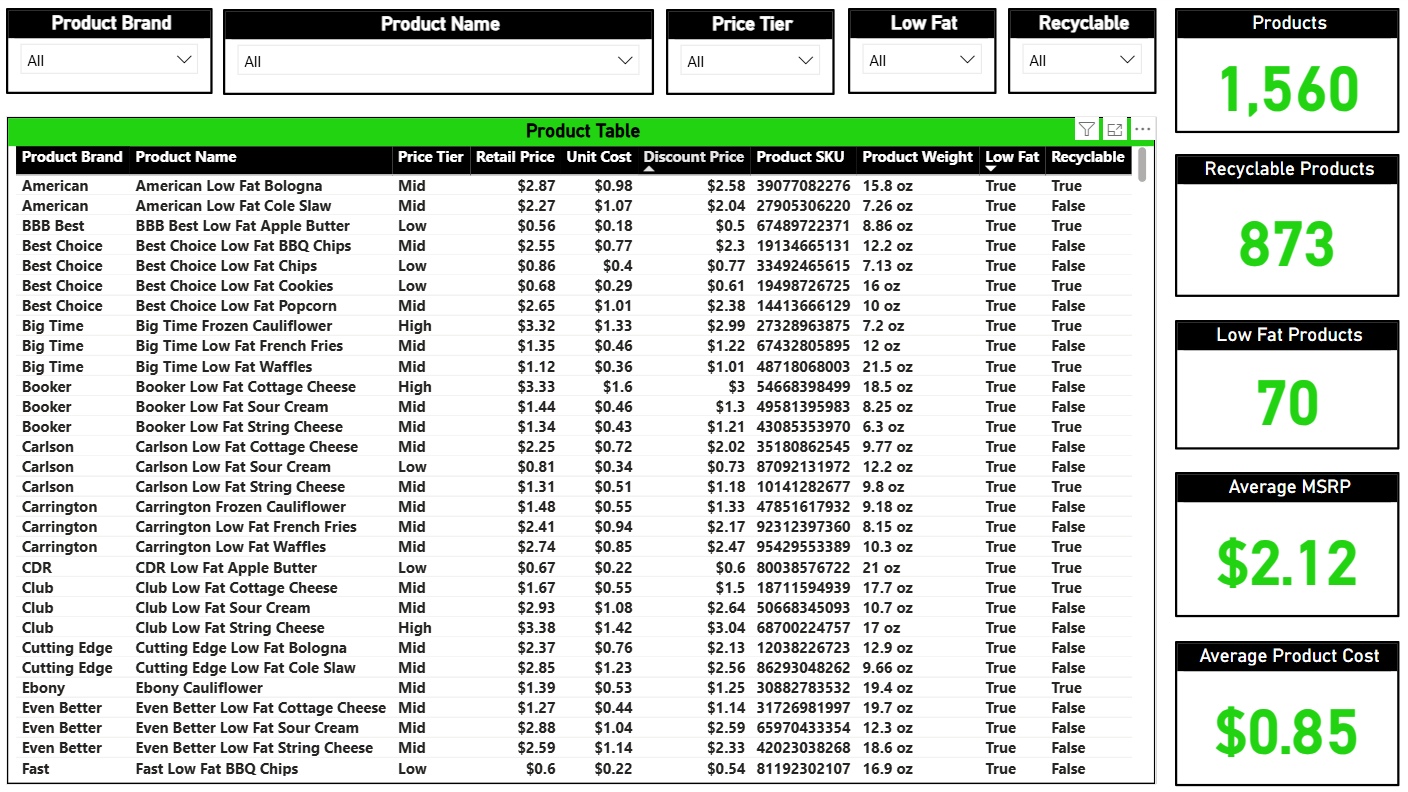

The page's visual inventory and layout, read from the dashboard file:
{"tool":"powerbi","page":{"name":"Product Lookup","canvas":[1280,720],"ordinal":1},"visuals":[{"type":"card","title":"Products","fields":{"Values":["Measures Table.Product Count"]},"box":[1056.7,11.3,201.1,112.4],"z":0,"group":"g1"},{"type":"tableEx","title":"Product Table","fields":{"Values":["Products.product_brand","Products.product_name","Products.Price_Tier","Sum(Products.product_retail_price)","Sum(Products.product_cost)","Sum(Products.discount_price)","Products.product_sku","Sum(Products.product_weight)","Sum(Products.low_fat)","Sum(Products.recyclable)"]},"box":[10.3,108.7,1029.7,599],"z":0},{"type":"slicer","title":"Product Brand","fields":{"Values":["Products.Product Brand"]},"box":[10.3,11.3,185.3,76.9],"z":1000,"group":"g2"},{"type":"card","title":"Low Fat Products","fields":{"Values":["Measures Table.Low Fat Product Count"]},"box":[1056.7,290.7,201.1,115.5],"z":1000,"group":"g1"},{"type":"group","id":"g1","title":"Product Cards","box":[1056.7,11.3,200.7,695.8],"z":2000},{"type":"card","title":"Recyclable Products","fields":{"Values":["Measures Table.Recyclable Products"]},"box":[1056.7,142.4,201.1,128],"z":2000,"group":"g1"},{"type":"slicer","title":"Price Tier","fields":{"Values":["Products.Price Tier"]},"box":[601.6,12.3,150.9,76.9],"z":3000,"group":"g2"},{"type":"card","title":"Average MSRP","fields":{"Values":["Measures Table.Average Retail Price"]},"box":[1056.7,426.6,201.1,129.6],"z":3000,"group":"g1"},{"type":"slicer","title":"Product Name","fields":{"Values":["Products.Product Name"]},"box":[204.7,12.3,385.8,76.9],"z":4000,"group":"g2"},{"type":"card","title":"Average Product Cost","fields":{"Values":["Measures Table.Average Product Cost"]},"box":[1056.7,578,201.1,129.6],"z":4000,"group":"g1"},{"type":"slicer","title":"Low Fat","fields":{"Values":["Products.Low Fat"]},"box":[764.6,11.3,132.6,76.9],"z":5000,"group":"g2"},{"type":"slicer","title":"Recyclable","fields":{"Values":["Products.Recyclable"]},"box":[907.4,11.3,132.6,76.9],"z":6000,"group":"g2"},{"type":"group","id":"g2","title":"Product Slicers","box":[10.3,11.3,1029.7,77.9],"z":6001}]}

Visuals, with their boxes in screenshot pixels (x1, y1, x2, y2), scaled from the page's 1280x720 canvas onto the 1408x792 screenshot:
"Products" card: <region>1162, 12, 1384, 136</region>
"Product Table" tableEx: <region>11, 120, 1144, 778</region>
"Product Brand" slicer: <region>11, 12, 215, 97</region>
"Low Fat Products" card: <region>1162, 320, 1384, 447</region>
"Product Cards" group: <region>1162, 12, 1383, 778</region>
"Recyclable Products" card: <region>1162, 157, 1384, 297</region>
"Price Tier" slicer: <region>662, 14, 828, 98</region>
"Average MSRP" card: <region>1162, 469, 1384, 612</region>
"Product Name" slicer: <region>225, 14, 650, 98</region>
"Average Product Cost" card: <region>1162, 636, 1384, 778</region>
"Low Fat" slicer: <region>841, 12, 987, 97</region>
"Recyclable" slicer: <region>998, 12, 1144, 97</region>
"Product Slicers" group: <region>11, 12, 1144, 98</region>
